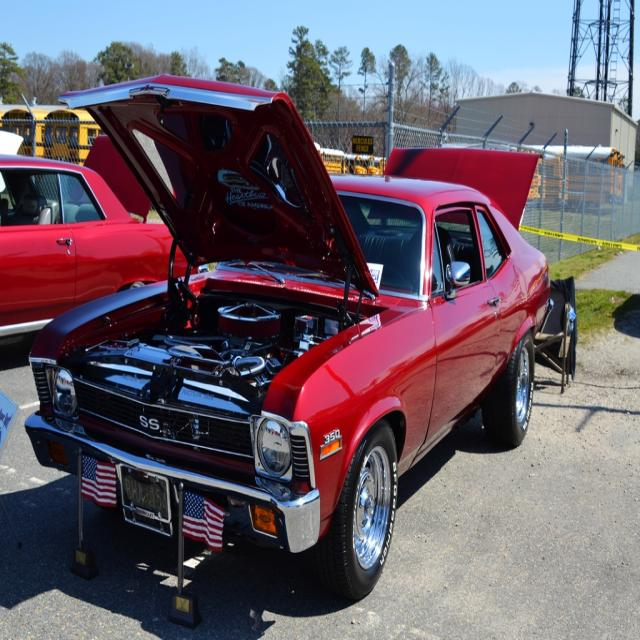car: (23, 72, 550, 597)
